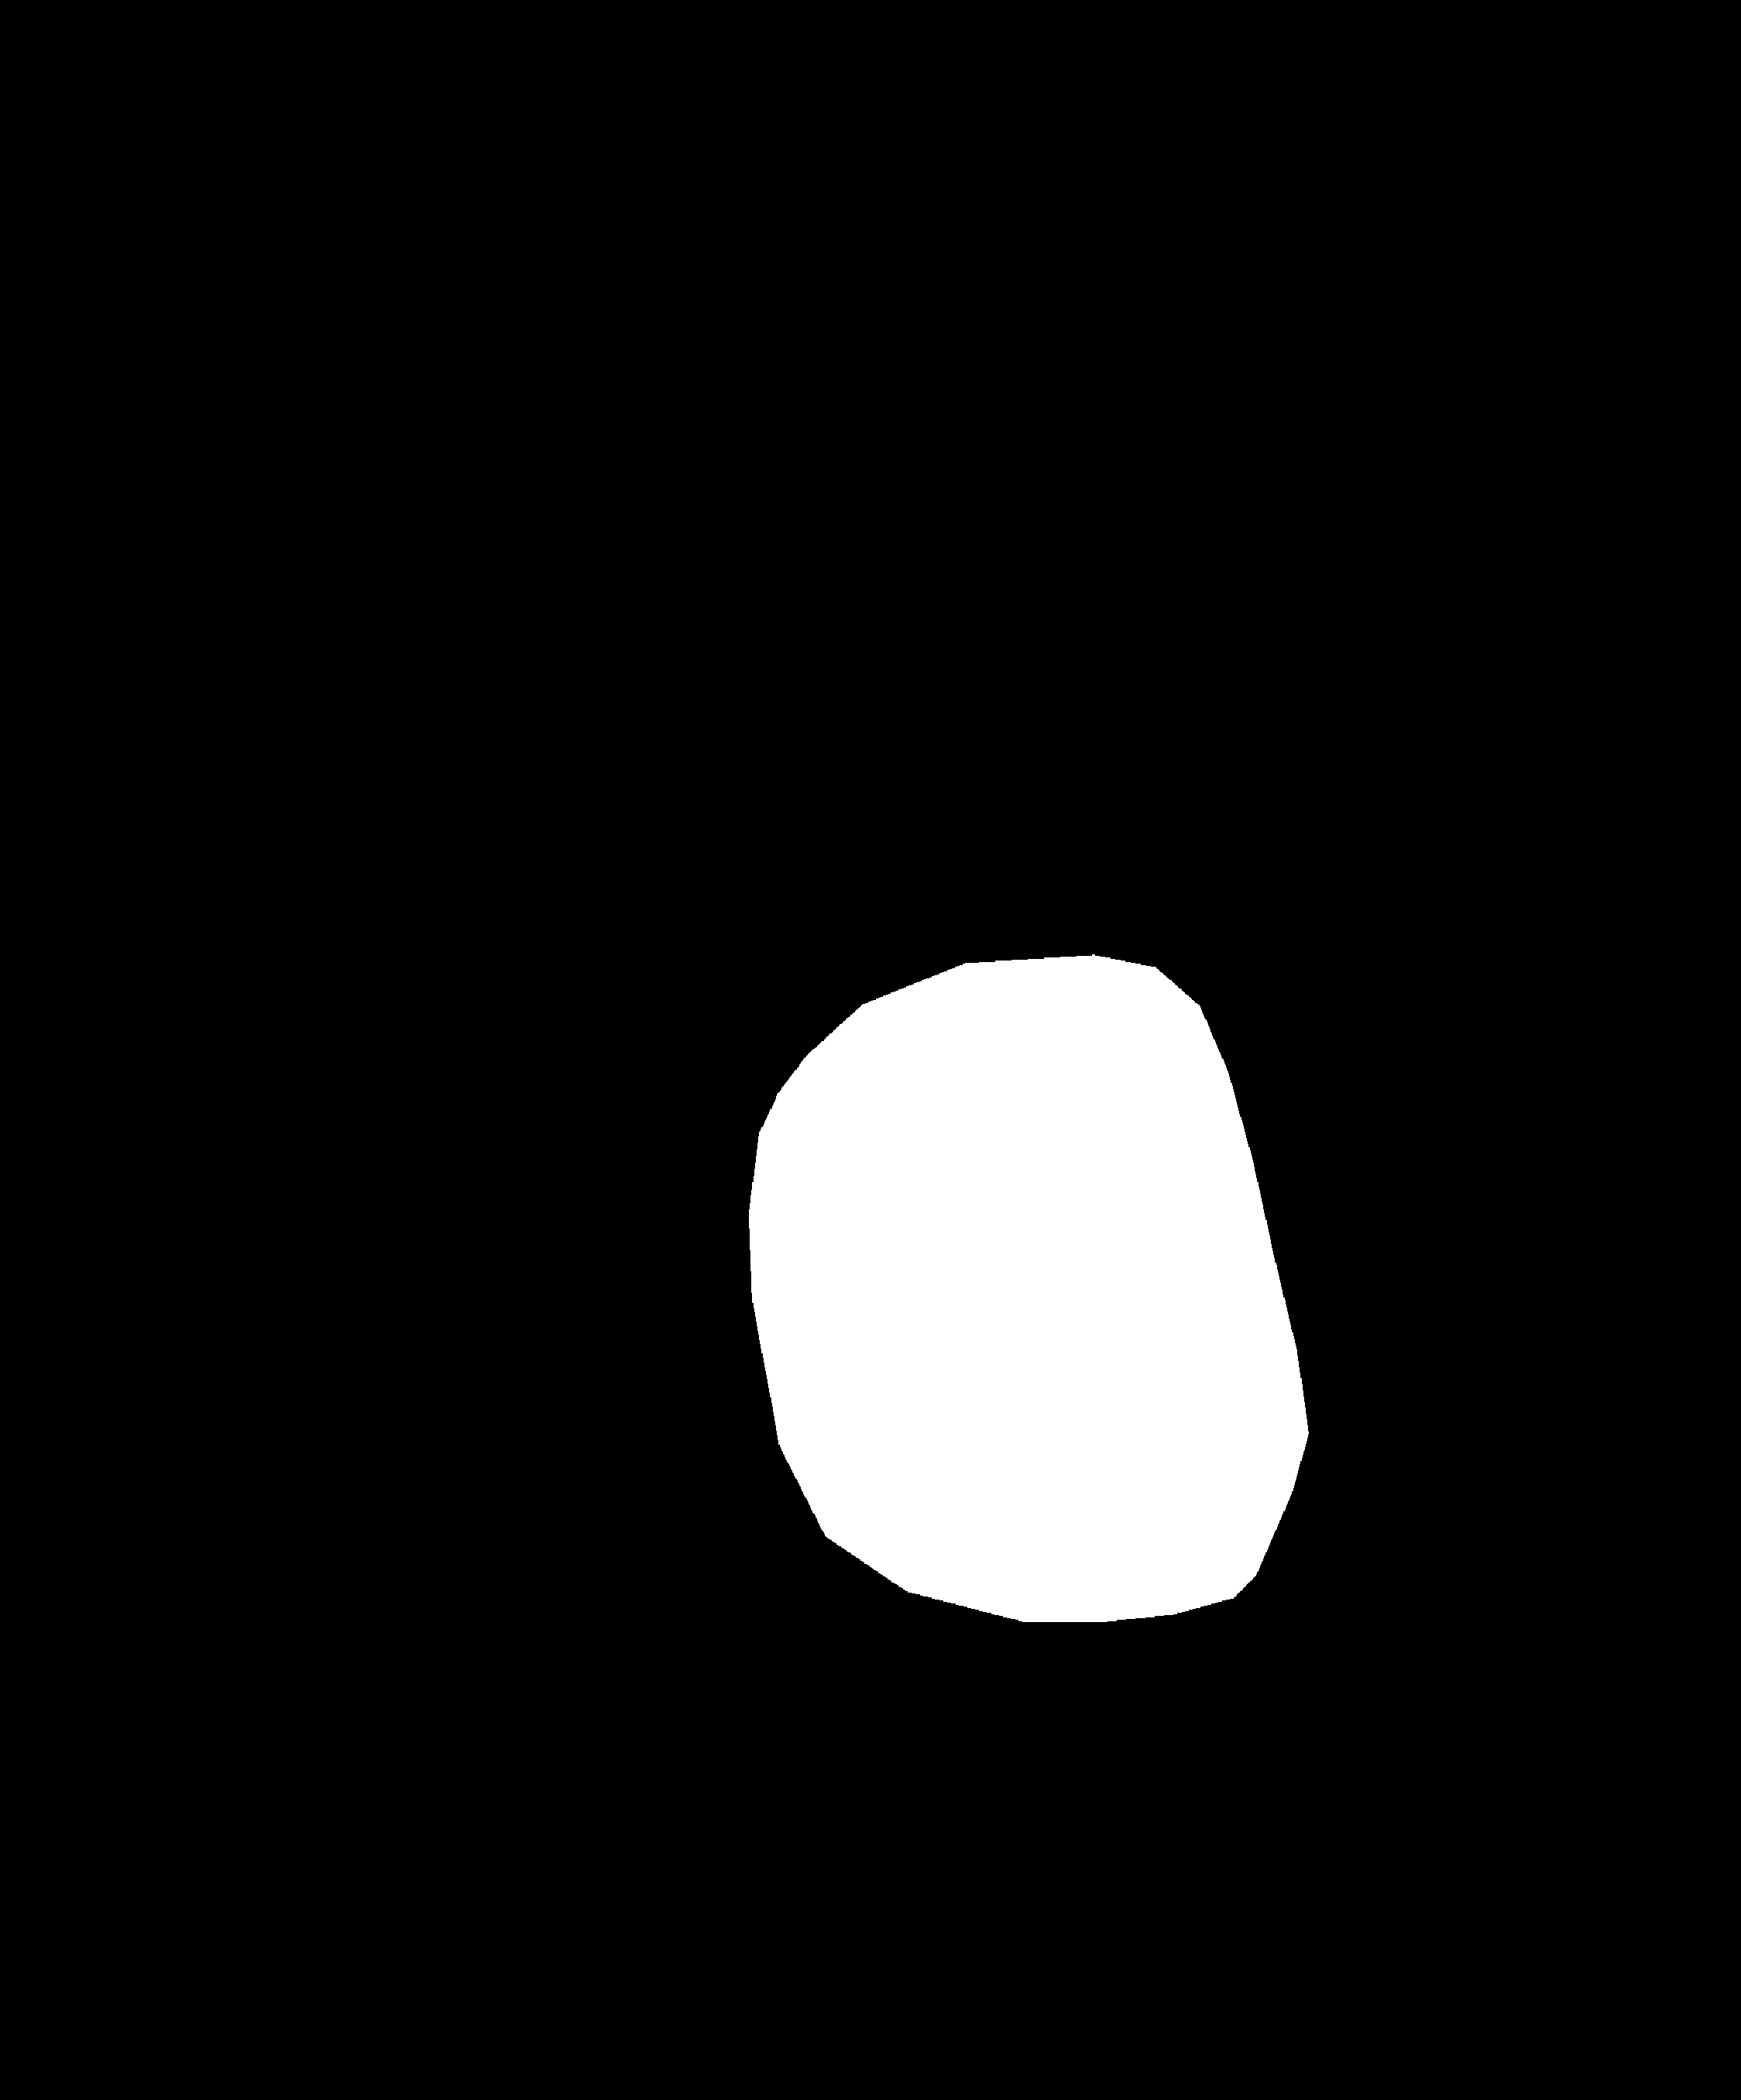heart: (733, 1040, 1305, 1578)
left_lung: (164, 237, 799, 1852)
right_lung: (961, 218, 1603, 1706)
